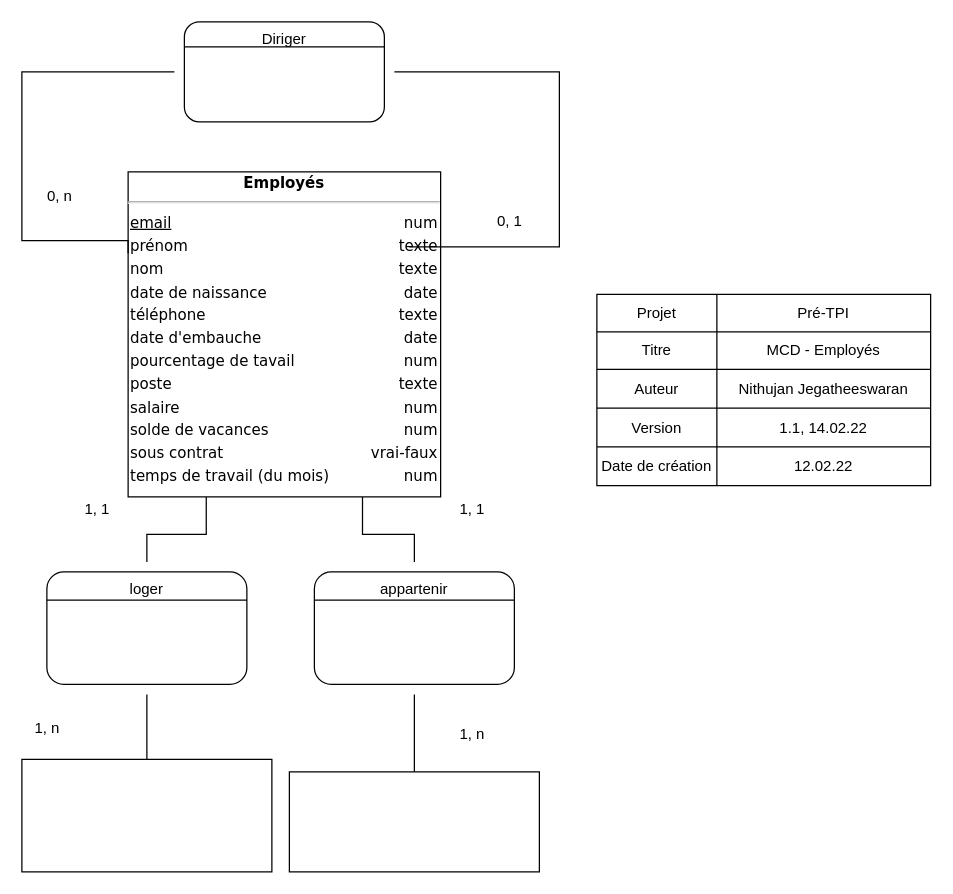
Image size: 953x894. Some labels were removed from this diagram. The box of each missing label's shape, as (x1, y1, x2, y2) in pixels:
Adresses rue texte NPA num localité texte: (21, 758, 272, 872)
Départements nom texte: (288, 771, 539, 872)
